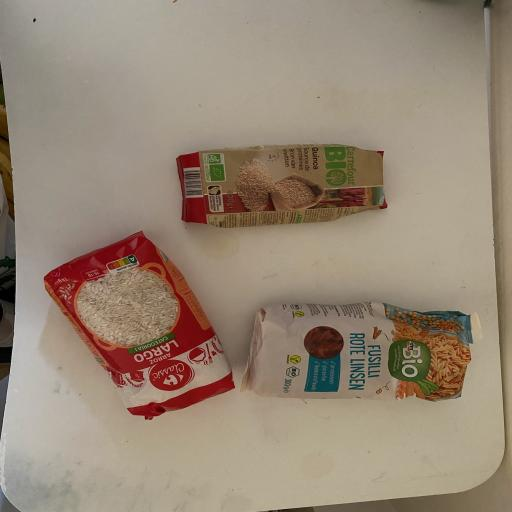pasta_fusili_lentil: (242, 299, 482, 409)
quinoa: (172, 140, 393, 232)
rice: (40, 227, 240, 423)
